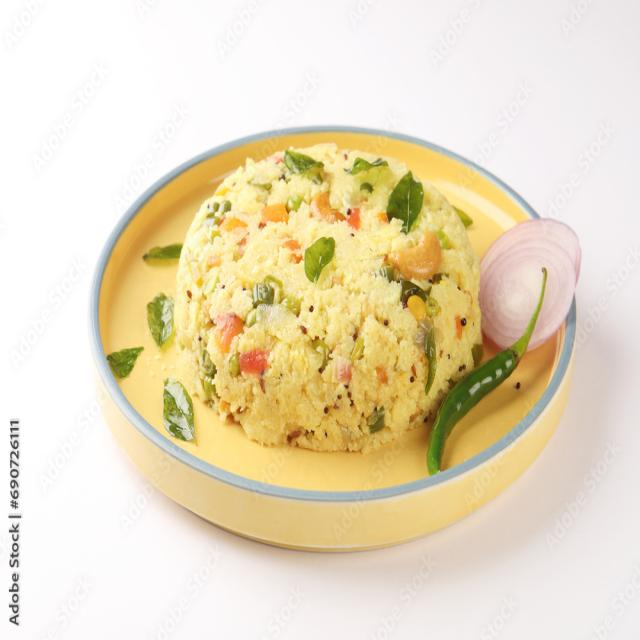UPMA: (148, 143, 515, 473)
